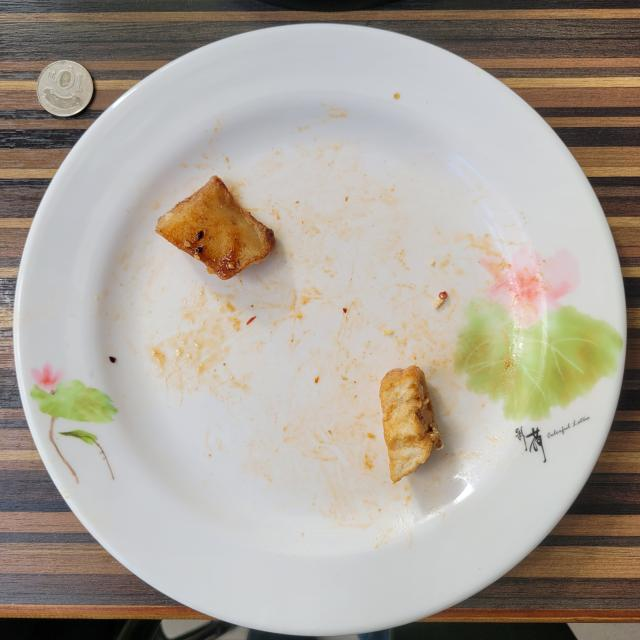coin: (36, 61, 94, 118)
creamy tofu: (380, 365, 442, 482)
fried potato: (155, 176, 275, 280)
